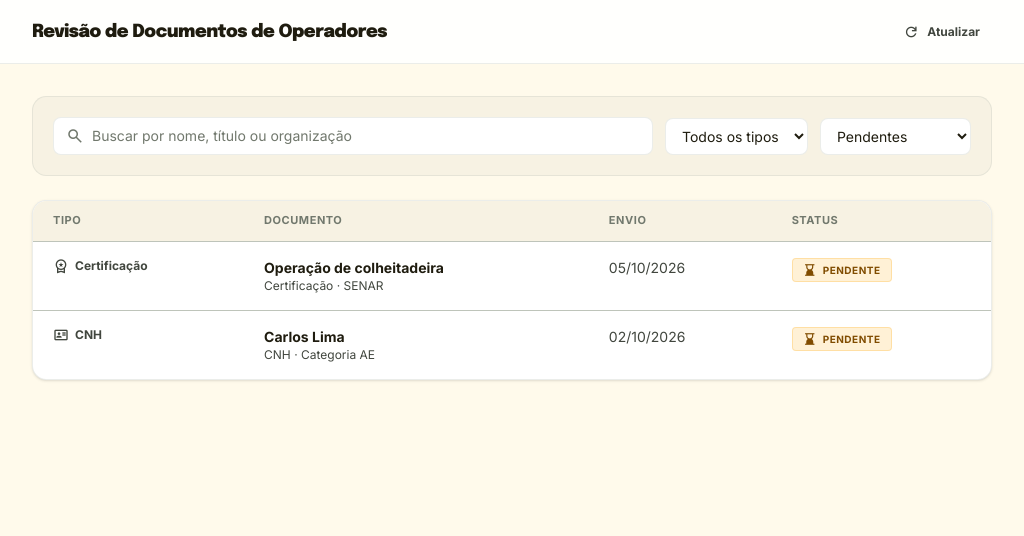
it: filters by type, status and search text
expect the text "Carlos Lima" is shown: met, box [264,328,345,345]
Select "Todos os status" in the 2nd dropdown. click: (896, 136)
box: [820,118,971,154]
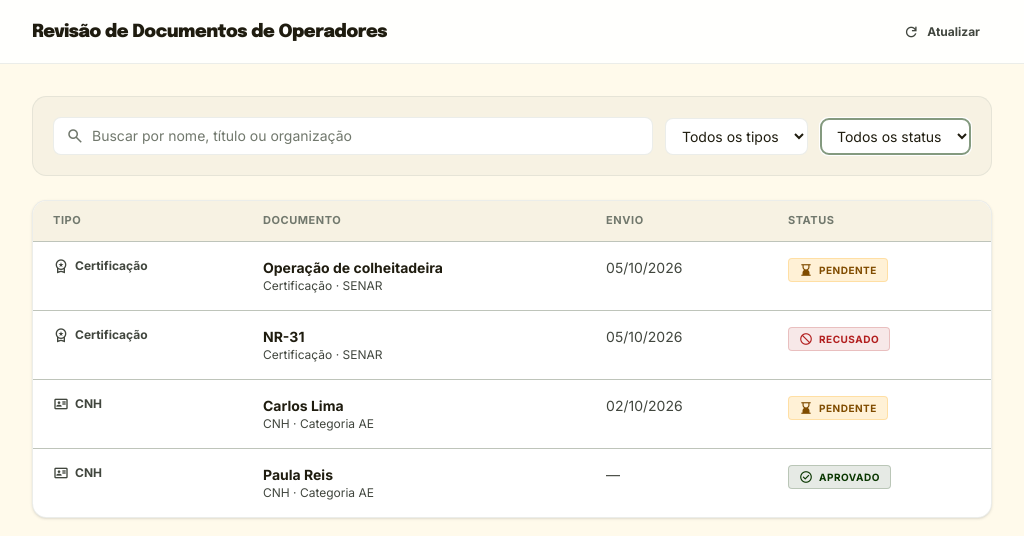
expect the number of rows is 5: met, box [33,201,991,241]; [33,241,991,310]; [33,310,991,379]; [33,379,991,448]; [33,448,991,517]
expect the text "—" is shown: met, box [586,448,768,517]
Select "Certificação" in the 1st dropdown. click: (736, 136)
box: [665,118,808,154]
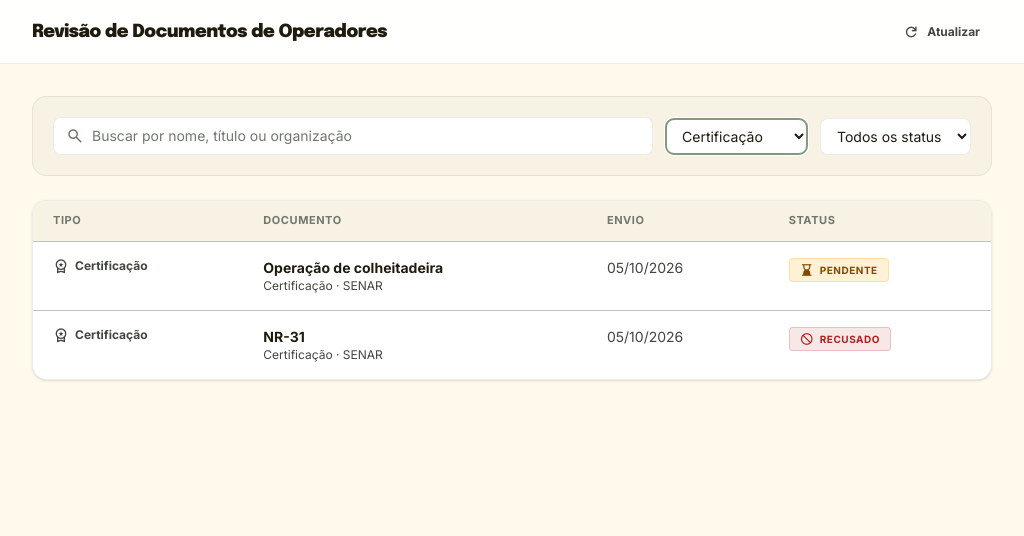
expect the number of rows is 3: met, box [33,201,991,241]; [33,241,991,310]; [33,310,991,379]
Type "nr-31" into the field with placeholder "Buscar por nome, título ou organização". click: (366, 136)
box: [92,126,640,146]
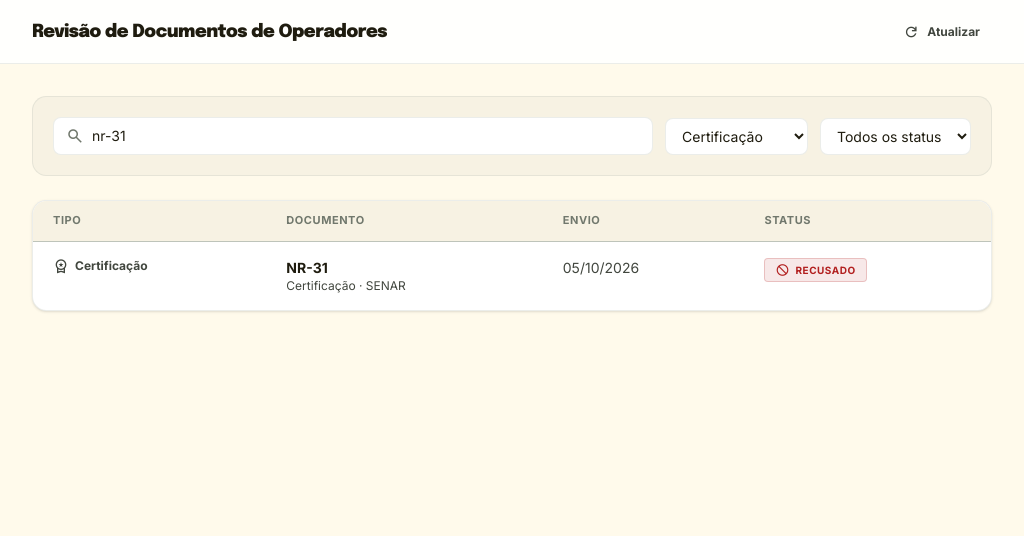
expect the text "Recusado" is shown: met, box [764,258,867,282]
Select "Aprovados" in the 2nd dropdown. click: (896, 136)
box: [820,118,971,154]
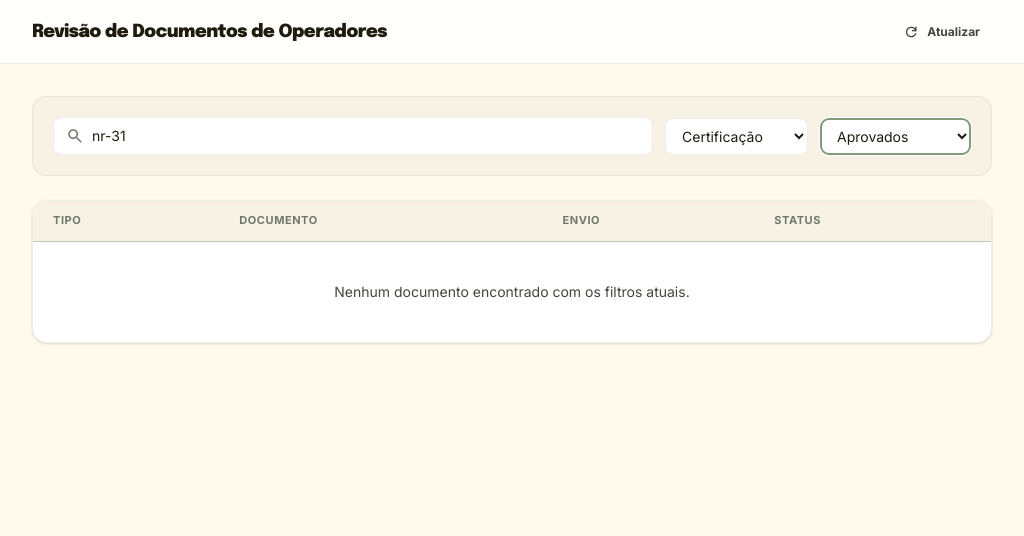
expect the text "Nenhum documento encontrado com os filtros atuais." is shown: met, box [33,241,991,342]
